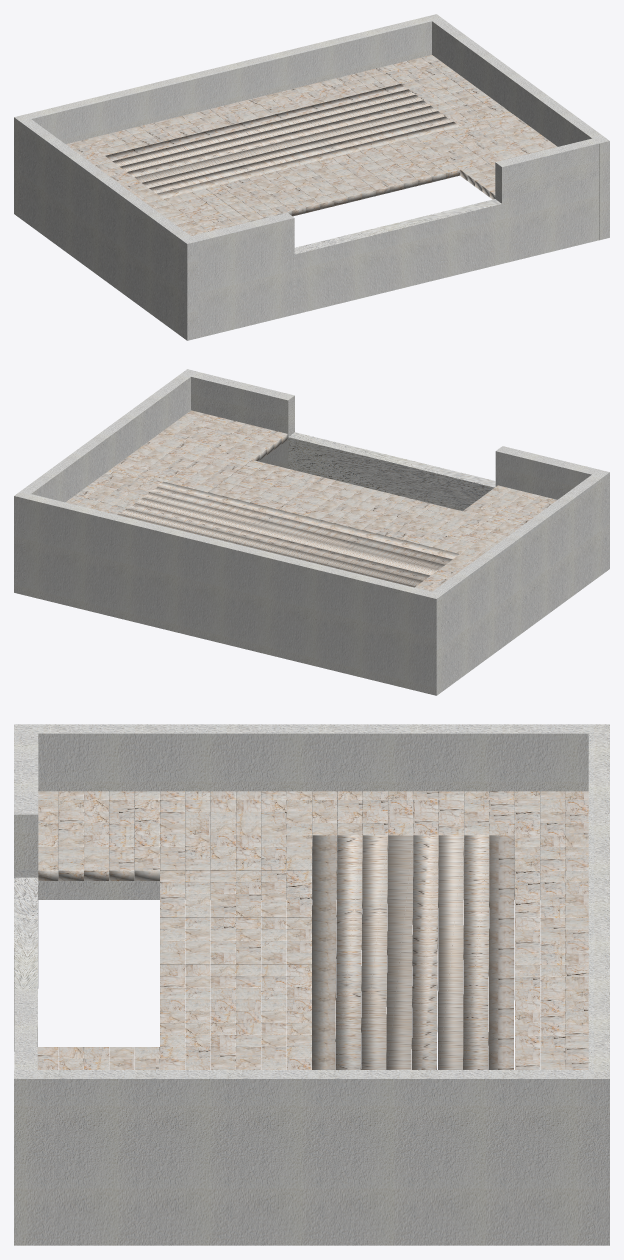
The model's file is Exterior_draco.glb.
3 views of the same model, one above another, from view 1: azimuth 30°, elevation 25°; view 2: azimuth 150°, elevation 25°; view 3: azimuth 270°, elevation 25° (orthographic). The views are drawn at different scales.
Parts seen in each view (by area): view 1: Boundary Walls, Paving Slabs; view 2: Boundary Walls, Paving Slabs; view 3: Boundary Walls, Paving Slabs.
Part boxes in pixels (x1,y1,x2,y2): Boundary Walls: (14,14,609,340); Paving Slabs: (66,55,557,236); Boundary Walls: (14,369,609,695); Paving Slabs: (65,410,556,591); Boundary Walls: (14,724,609,1245); Paving Slabs: (37,791,588,1069).
Bounding box in the file's own units: 176 × 38.59 × 125.
2 materials, 2 textured.
